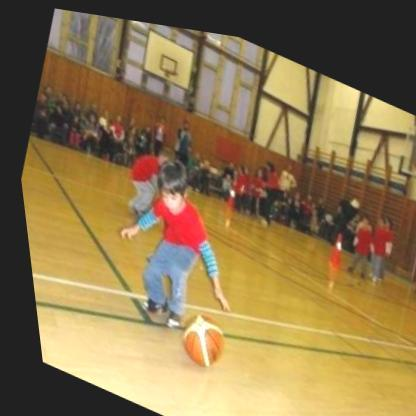basketball: (157, 292, 233, 378)
